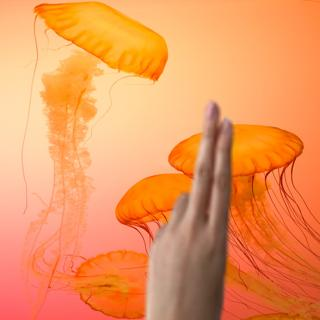DHAVE: (138, 98, 243, 320)
